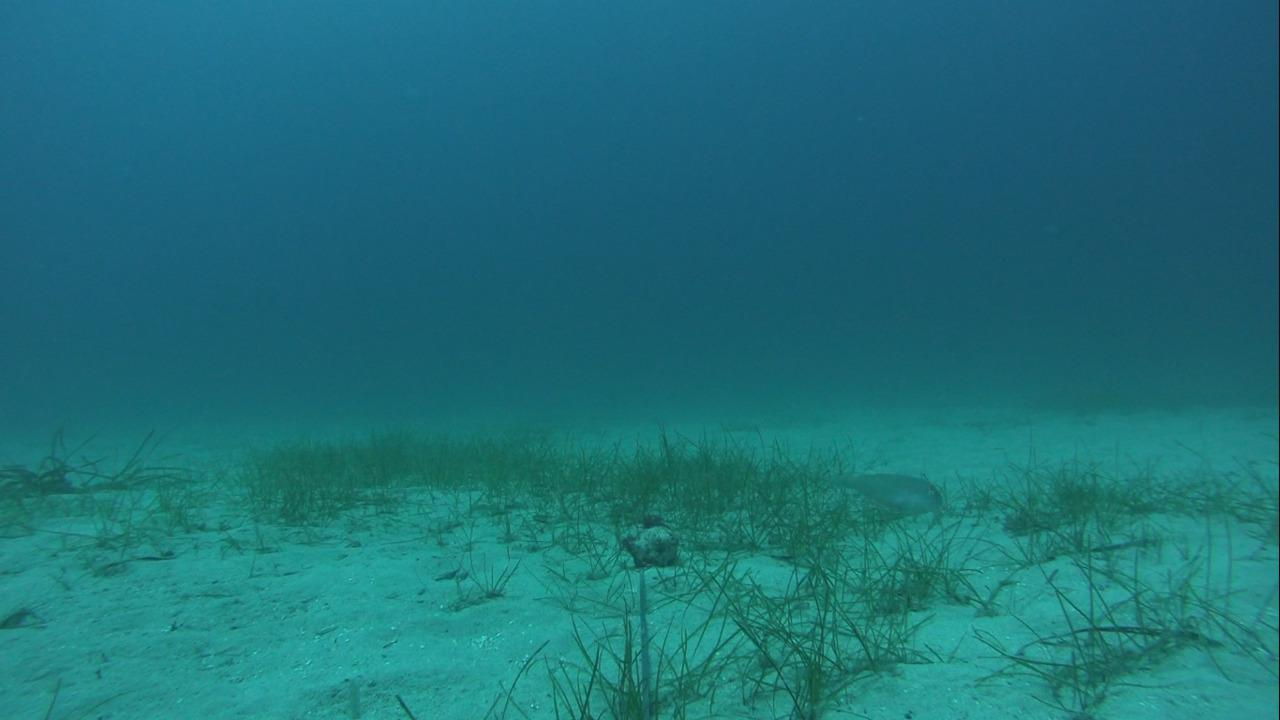raor: (830, 466, 946, 518)
